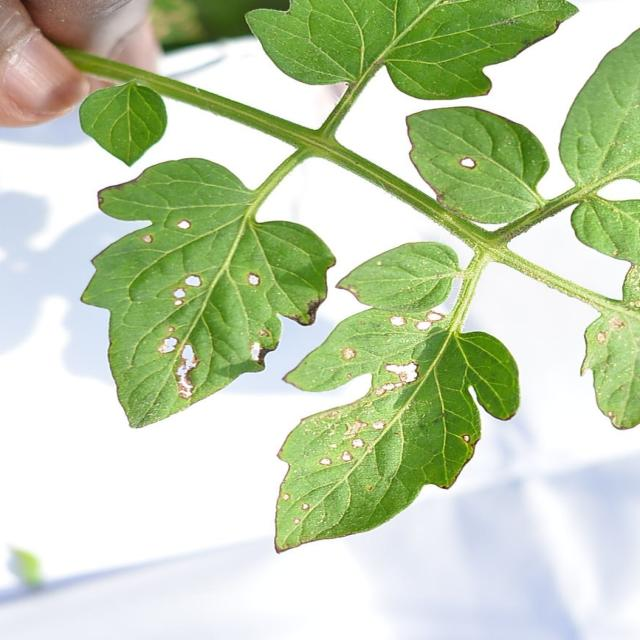infected: (270, 296, 474, 530), (136, 212, 322, 398), (589, 312, 635, 354), (442, 143, 493, 179)
